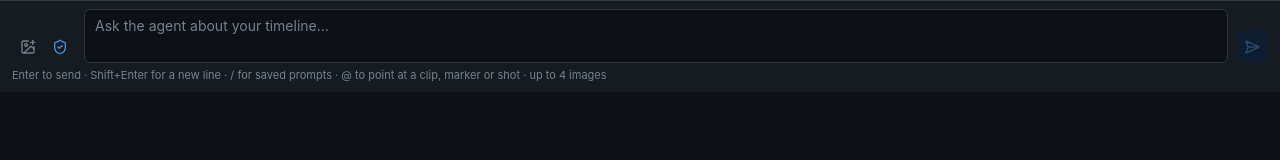
Composer › saved prompts (Phase 8h) › Tab picks too, and Escape closes the list and leaves the text
Type "/find" into the text box named "Message the agent" at (656, 36), box top-left (84, 9), bottom-right (1228, 63)
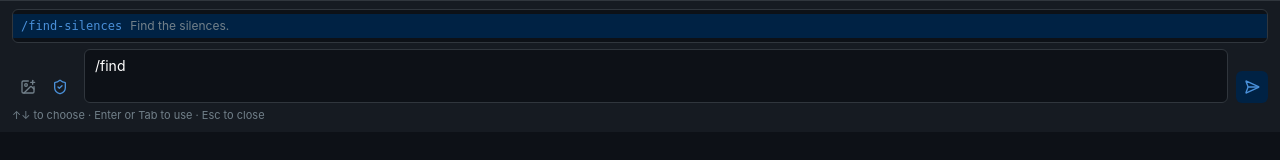
Press Escape in the text box named "Message the agent", box top-left (84, 49), bottom-right (1228, 103)
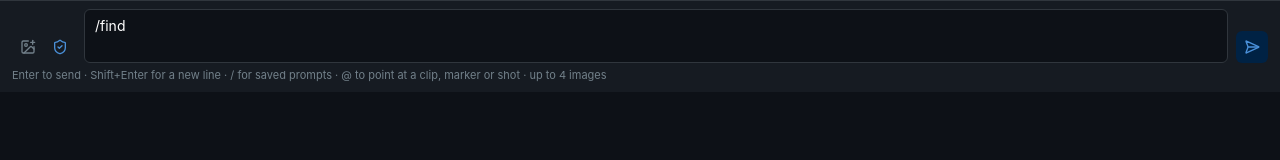
Expected: the list is gone
Replace the text in the text box named "Message the agent" with "/fin" at (656, 36), box top-left (84, 9), bottom-right (1228, 63)
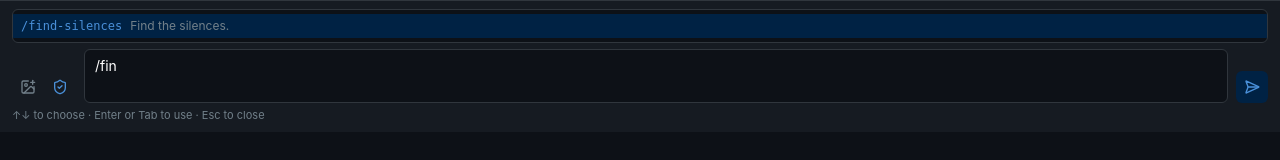
Press Tab in the text box named "Message the agent", box top-left (84, 49), bottom-right (1228, 103)
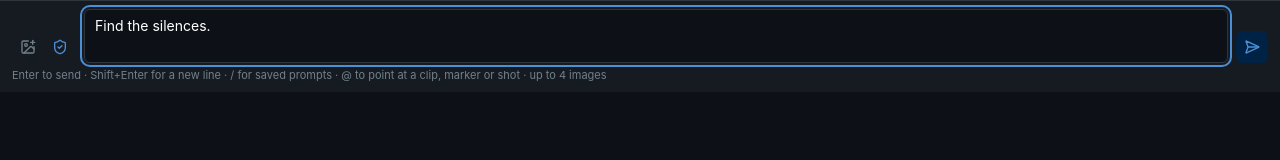
Expected: the text box named "Message the agent" holds "Find the silences.", top-left (84, 9), bottom-right (1228, 63)
